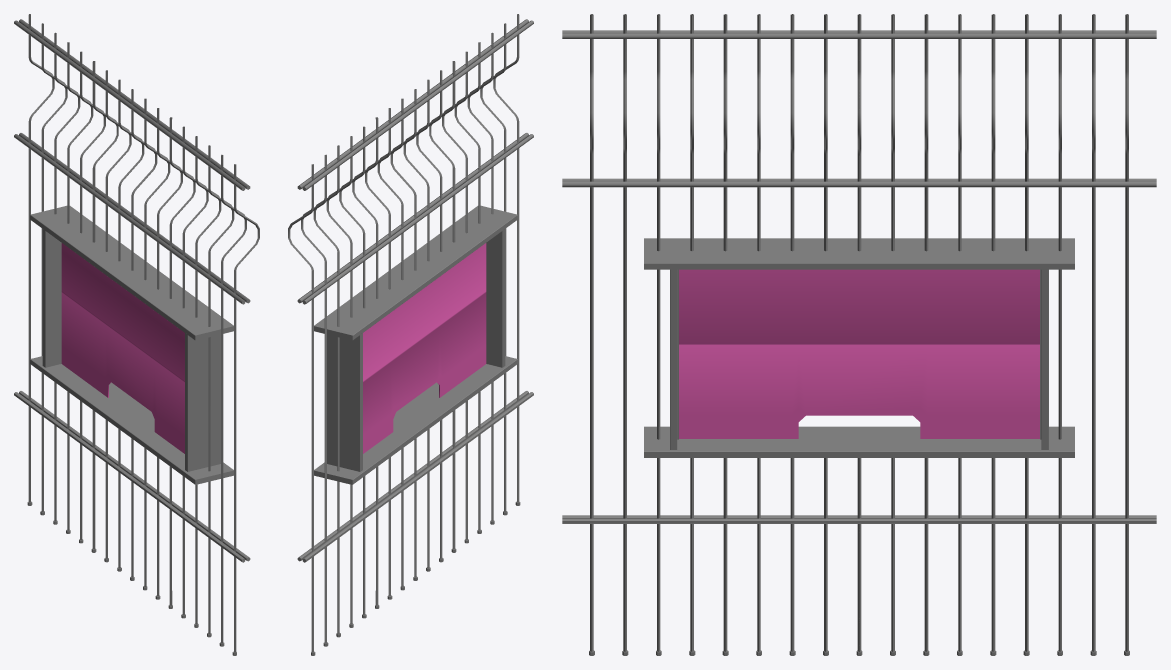
Rendered from MetalBarClerkWindow.fbx.
3 views of the same model, side by side, from view 1: azimuth 30°, elevation 25°; view 2: azimuth 150°, elevation 25°; view 3: azimuth 270°, elevation 25° (orthographic). The views are drawn at different scales.
Parts seen in each view (by area): view 1: MetalBarsClerkWindow; view 2: MetalBarsClerkWindow; view 3: MetalBarsClerkWindow.
Boxes of the visible parts, bbox=[...] form: MetalBarsClerkWindow: bbox=[14, 14, 259, 655]; MetalBarsClerkWindow: bbox=[288, 14, 533, 655]; MetalBarsClerkWindow: bbox=[562, 14, 1156, 655].
Bounding box in the file's own units: 45.28 × 475 × 400.
